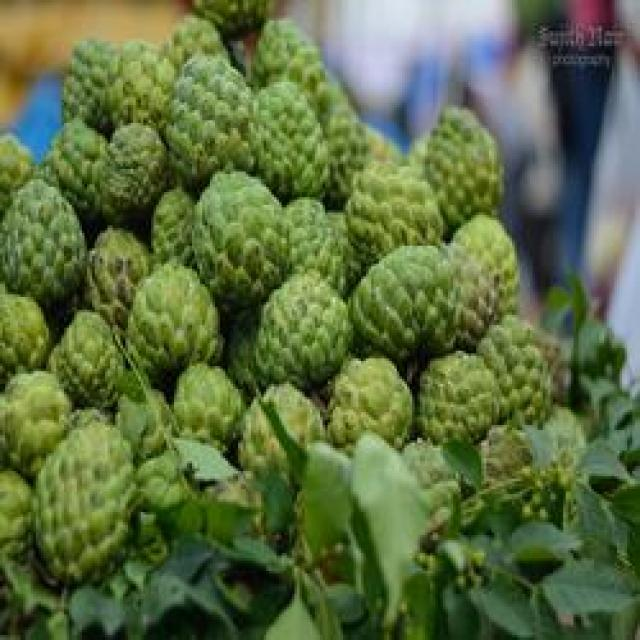apple: (33, 407, 131, 579), (182, 161, 300, 302), (351, 245, 466, 364), (161, 54, 261, 187), (422, 100, 510, 243), (5, 187, 92, 305), (471, 325, 566, 433)
